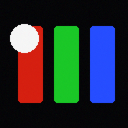2 circle: (10, 24, 38, 52)
